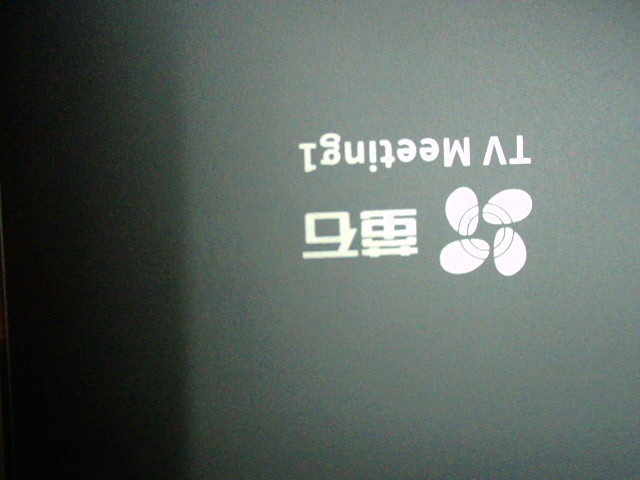BA_Yingshi: (294, 131, 534, 279)
